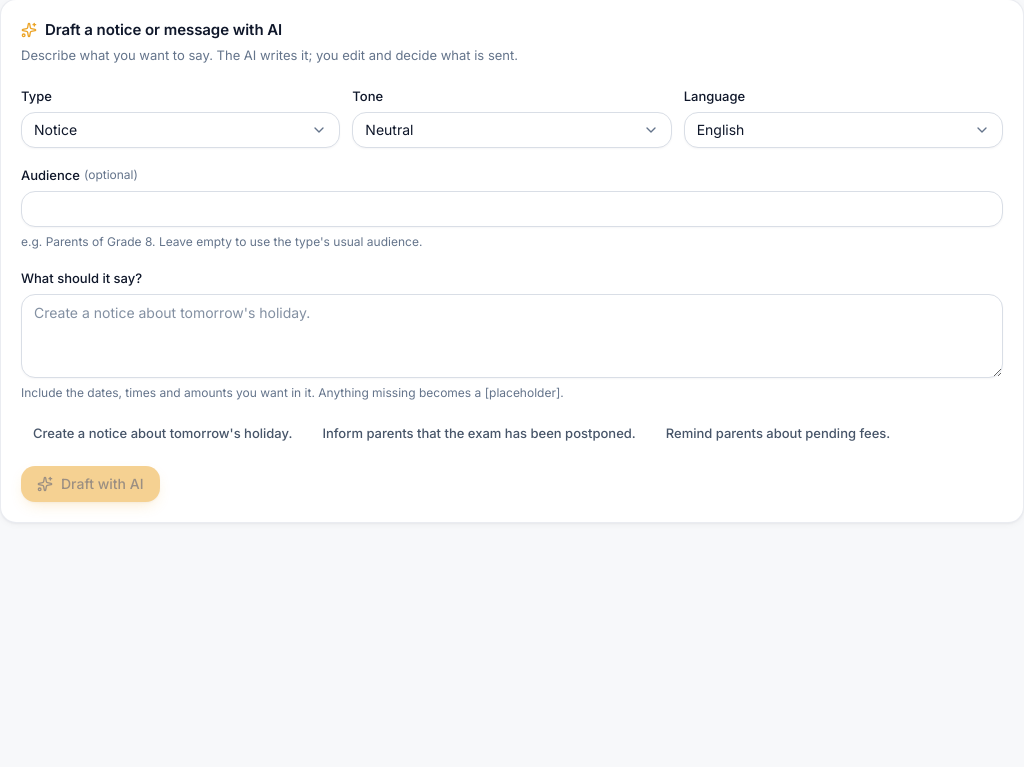
Test case: NoticeDrafter › drafts from an instruction, rewrites only the visible version, and keeps edits
The image size is (1024, 767).
Type "Holiday on 5 Oct" into the text box labelled "What should it say?" at [512, 336], box [21,294,1003,378]
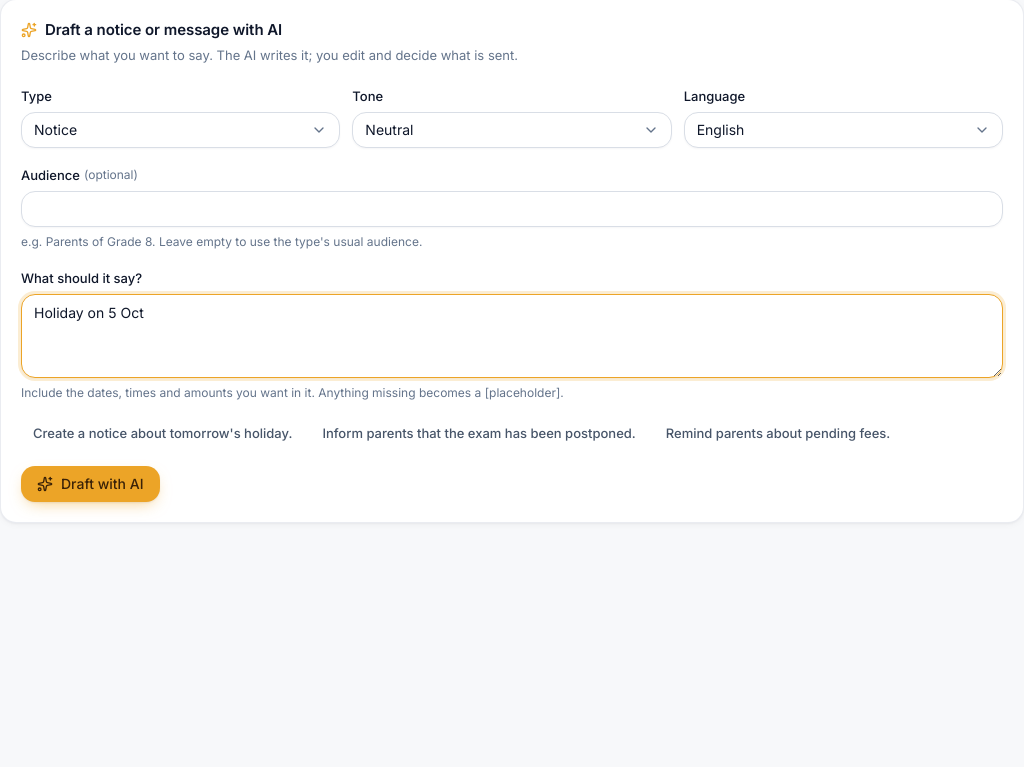
Click the button "Draft with AI" at [90, 484], box [21,466,160,502]
(page scrolled)
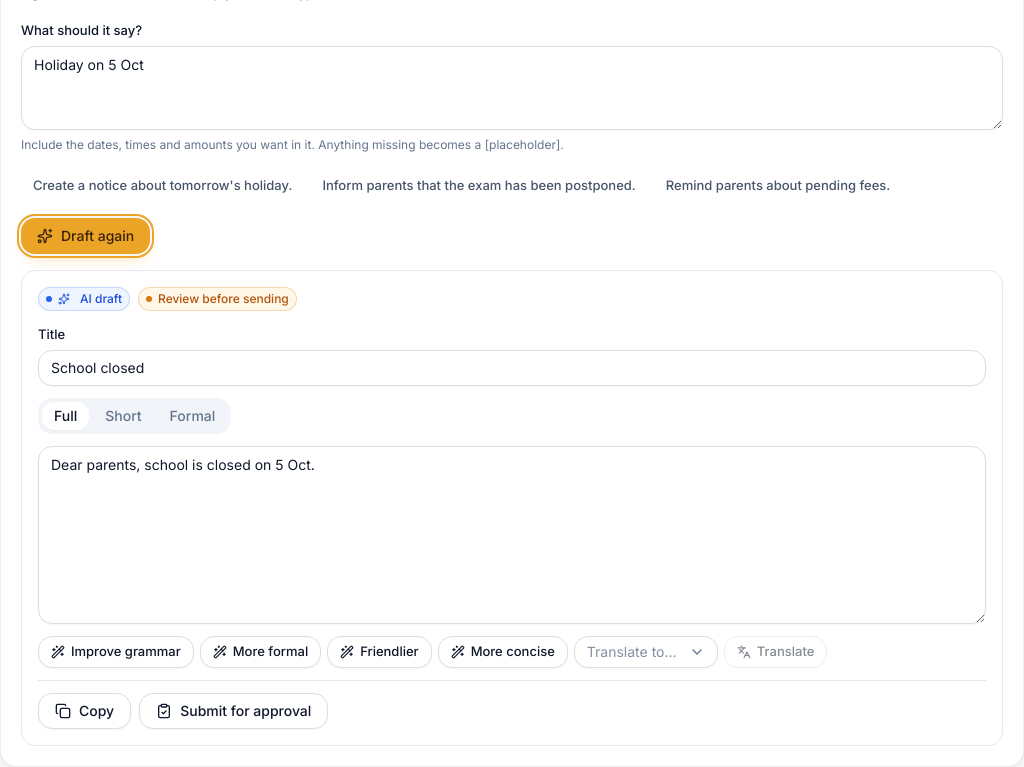
Result: the text box named "Notice text" holds "Dear parents, school is closed on 5 Oct." at [38,446,986,624]
Click the button "More concise" at [503, 652], box [438,636,568,668]
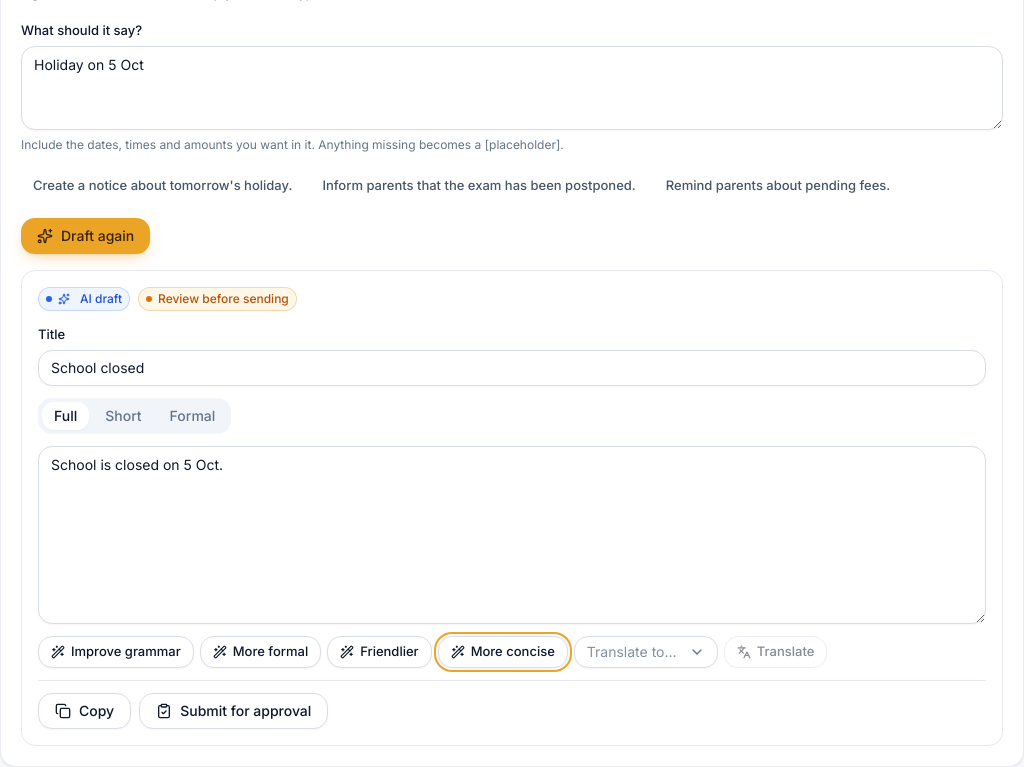
Result: the text box named "Notice text" holds "School is closed on 5 Oct." at [38,446,986,624]
